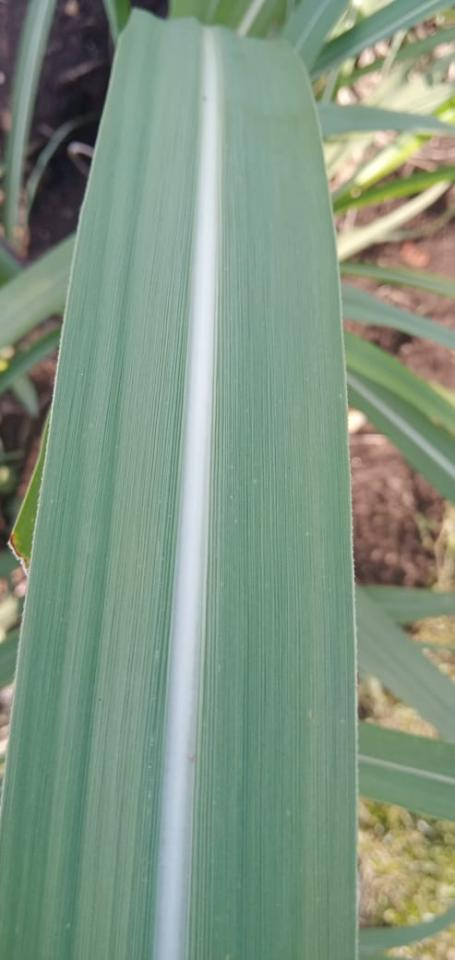Healthy: (0, 13, 354, 959), (359, 723, 454, 821)
